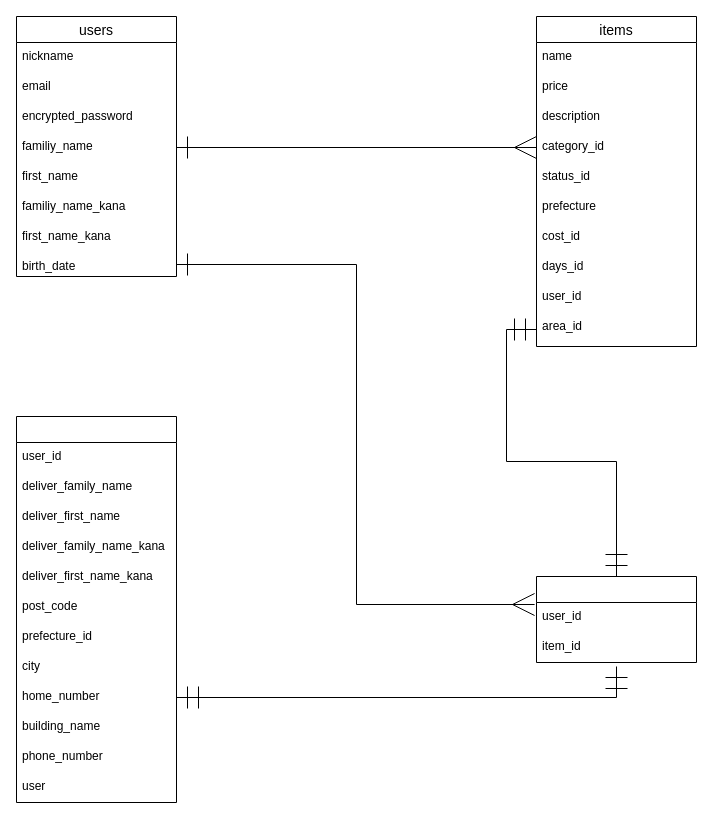
This 713x819 diagram has some shape labels left out. Each missing label, with the box of its shape:
deliver_adresses: (16, 416, 176, 802)
histories: (536, 576, 696, 662)
